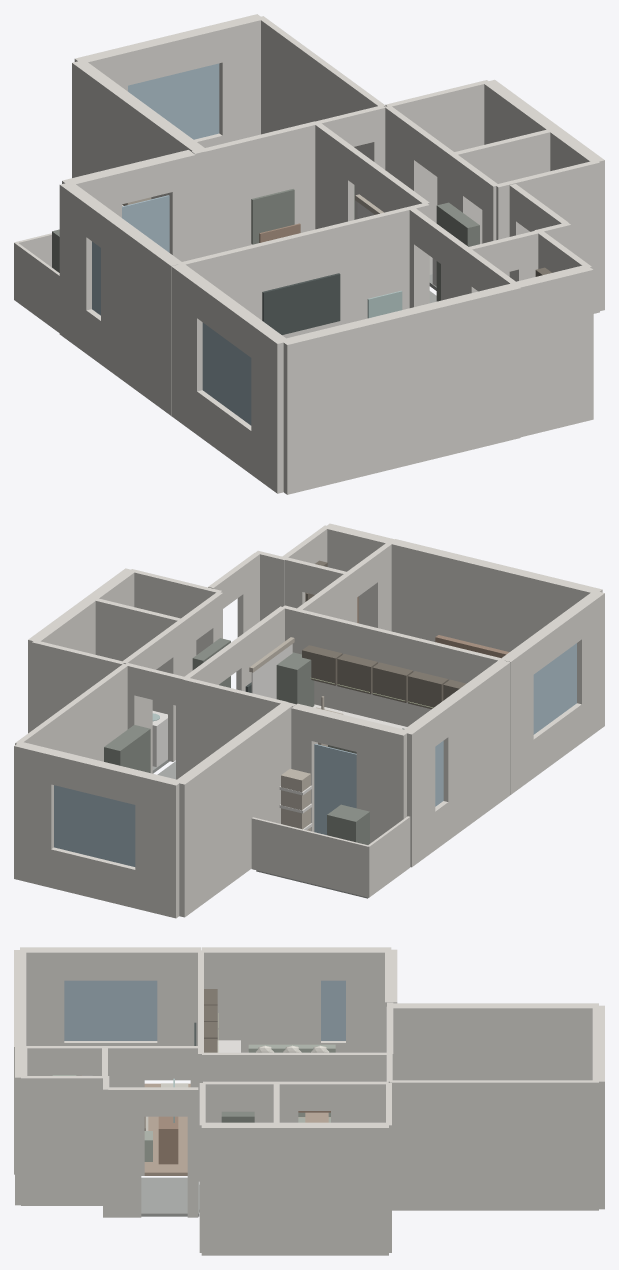
File: kvartira-japandi-now-dinner.glb
The picture shows the model from 3 angles, top to bottom: view 1: azimuth 30°, elevation 25°; view 2: azimuth 150°, elevation 25°; view 3: azimuth 270°, elevation 25°; orthographic projection. The views are drawn at different scales.
Parts seen in each view (by area): view 1: wall_w_l_s_166_612_0.0, wall_w_dividing_168_644_0.0, wall_w_closet_s_612_752_0.0, wall_w_k_w_559_791_0.0, wall_w_top_s_426_660_0.0, wall_w_top_w_20_423_0.0, wall_w_top_e_20_425_0.0, wall_w_wc_s_777_971_0.0, wall_w_l_w_1057_1143_0.0, wall_w_top_n_691_771_0.0, wall_w_bath_n_777_971_0.0, wall_w_k_w_423_511_0.0 (+40 smaller); view 2: wall_w_l_s_166_612_0.0, wall_w_top_w_20_423_0.0, wall_w_dividing_168_644_0.0, wall_w_k_w_559_791_0.0, wall_w_top_n_422_510_0.0, wall_w_log_n_159_409_0.0, wall_w_top_n_691_771_0.0, wall_w_top_e_20_425_0.0, wall_w_top_n_510_691_0.8, wall_w_k_n1_165_266_0.0, wall_w_k_n2_408_643_0.0, wall_w_bath_n_777_971_0.0 (+51 smaller); view 3: wall_w_top_e_20_425_0.0, wall_w_bath_e_427_791_0.0, wall_w_top_w_20_423_0.0, wall_w_k_w_559_791_0.0, wall_w_closet_e_978_1141_0.0, wall_w_l_w_877_1057_0.8, wall_w_entry_e_908_972_0.0, wall_w_l_w_792_877_0.0, wall_w_k_w_423_511_0.0, wall_w_l_w_1057_1143_0.0, wall_w_l_w_877_1057_2.1, wall_w_k_e_625_790_0.0 (+28 smaller).
Boxes of the visible parts, <box> form: wall_w_l_s_166_612_0.0: <box>281,283,520,494</box>; wall_w_dividing_168_644_0.0: <box>178,202,429,338</box>; wall_w_closet_s_612_752_0.0: <box>516,265,593,437</box>; wall_w_k_w_559_791_0.0: <box>101,212,182,415</box>; wall_w_top_s_426_660_0.0: <box>204,119,327,256</box>; wall_w_top_w_20_423_0.0: <box>72,60,204,199</box>; wall_w_top_e_20_425_0.0: <box>258,16,385,219</box>; wall_w_wc_s_777_971_0.0: <box>495,161,599,313</box>; wall_w_l_w_1057_1143_0.0: <box>251,322,289,493</box>; wall_w_top_n_691_771_0.0: <box>216,14,263,143</box>; wall_w_bath_n_777_971_0.0: <box>385,80,489,223</box>; wall_w_k_w_423_511_0.0: <box>59,183,98,353</box>; wall_w_l_s_166_612_0.0: <box>390,539,602,651</box>; wall_w_top_w_20_423_0.0: <box>174,703,292,917</box>; wall_w_dividing_168_644_0.0: <box>282,605,505,726</box>; wall_w_k_w_559_791_0.0: <box>437,659,510,840</box>; wall_w_top_n_422_510_0.0: <box>135,771,181,918</box>; wall_w_log_n_159_409_0.0: <box>251,817,368,897</box>; wall_w_top_n_691_771_0.0: <box>14,742,56,887</box>; wall_w_top_e_20_425_0.0: <box>15,663,127,761</box>; wall_w_top_n_510_691_0.8: <box>54,785,135,866</box>; wall_w_k_n1_165_266_0.0: <box>356,719,409,843</box>; wall_w_k_n2_408_643_0.0: <box>183,679,295,774</box>; wall_w_bath_n_777_971_0.0: <box>32,641,124,730</box>; wall_w_top_e_20_425_0.0: <box>390,1080,598,1210</box>; wall_w_bath_e_427_791_0.0: <box>201,1122,388,1255</box>; wall_w_top_w_20_423_0.0: <box>391,1003,598,1080</box>; wall_w_k_w_559_791_0.0: <box>201,947,320,1052</box>; wall_w_closet_e_978_1141_0.0: <box>21,1076,104,1205</box>; wall_w_l_w_877_1057_0.8: <box>64,980,157,1040</box>; wall_w_entry_e_908_972_0.0: <box>108,1087,141,1217</box>; wall_w_l_w_792_877_0.0: <box>157,947,200,1080</box>; wall_w_k_w_423_511_0.0: <box>346,947,391,1052</box>; wall_w_l_w_1057_1143_0.0: <box>20,947,64,1045</box>; wall_w_l_w_877_1057_2.1: <box>64,947,157,980</box>; wall_w_k_e_625_790_0.0: <box>202,1052,286,1111</box>.
Size of the model in its own units: 8.24 by 2.77 by 11.41.
